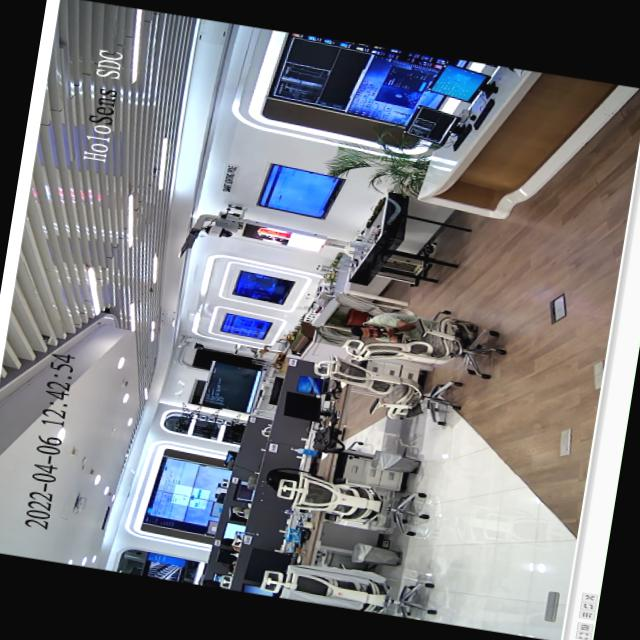long weapon: (367, 318, 412, 339)
